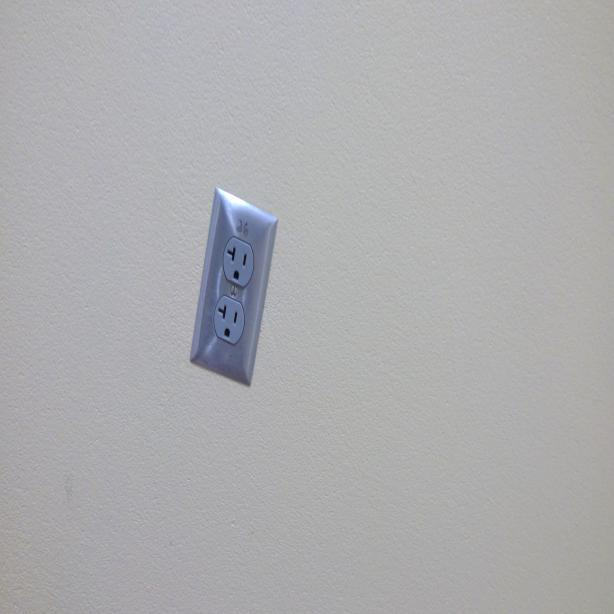typeb: (222, 236, 254, 288), (215, 298, 242, 344)
